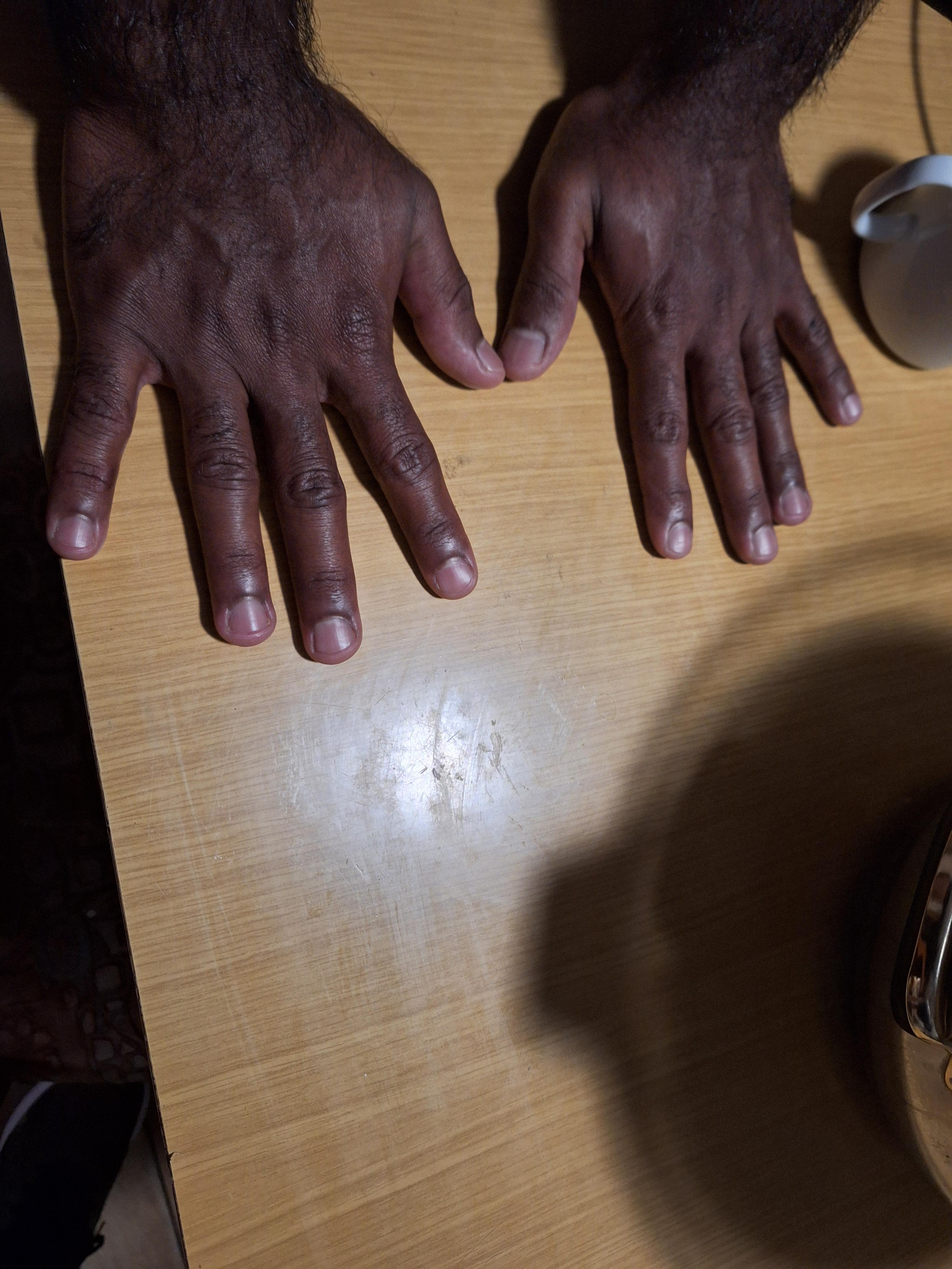Fingernail: (501, 329, 547, 365), (315, 619, 356, 653), (436, 559, 474, 593), (230, 600, 270, 632), (56, 517, 95, 548), (476, 338, 503, 371), (752, 525, 776, 556), (669, 521, 691, 553), (783, 487, 808, 515), (843, 394, 862, 419)
